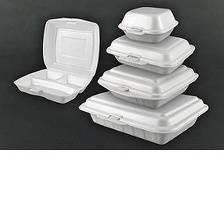foam_box: (8, 11, 103, 106), (76, 85, 213, 147), (93, 61, 203, 111), (103, 29, 196, 77), (115, 2, 182, 46)
